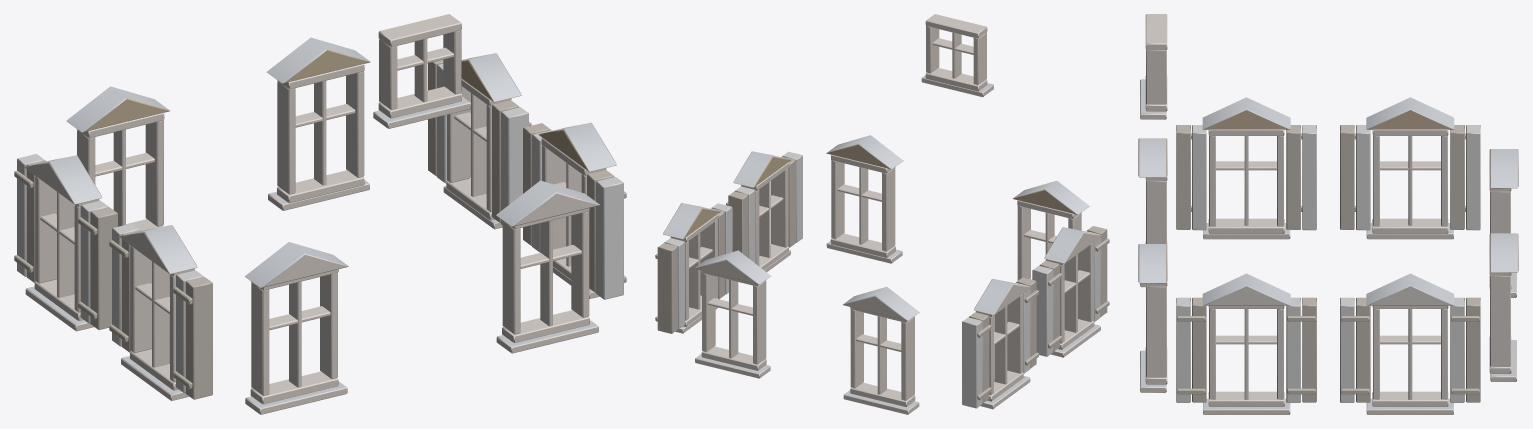
The model's file is CandyHouse_Bungalow_Trim.glb.
3 views of the same model, side by side, from view 1: azimuth 30°, elevation 25°; view 2: azimuth 150°, elevation 25°; view 3: azimuth 270°, elevation 25° (orthographic). The views are drawn at different scales.
Parts seen in each view (by area): view 1: CandyHouse_Bungalow_Trim; view 2: CandyHouse_Bungalow_Trim; view 3: CandyHouse_Bungalow_Trim.
Boxes of the visible parts, x1=… form: CandyHouse_Bungalow_Trim: x1=14, y1=14, x2=626, y2=414; CandyHouse_Bungalow_Trim: x1=655, y1=14, x2=1109, y2=414; CandyHouse_Bungalow_Trim: x1=1138, y1=14, x2=1518, y2=414.
Size of the model in its own units: 20.4 by 14.81 by 17.4.
